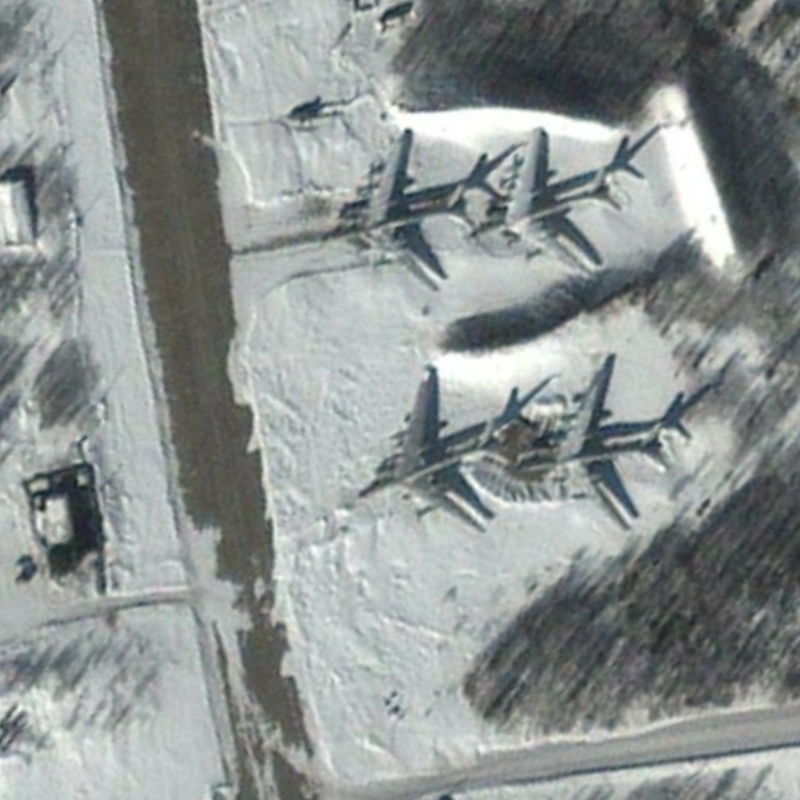A17: (317, 124, 482, 295), (353, 361, 514, 535), (506, 368, 666, 535), (463, 125, 626, 282)
